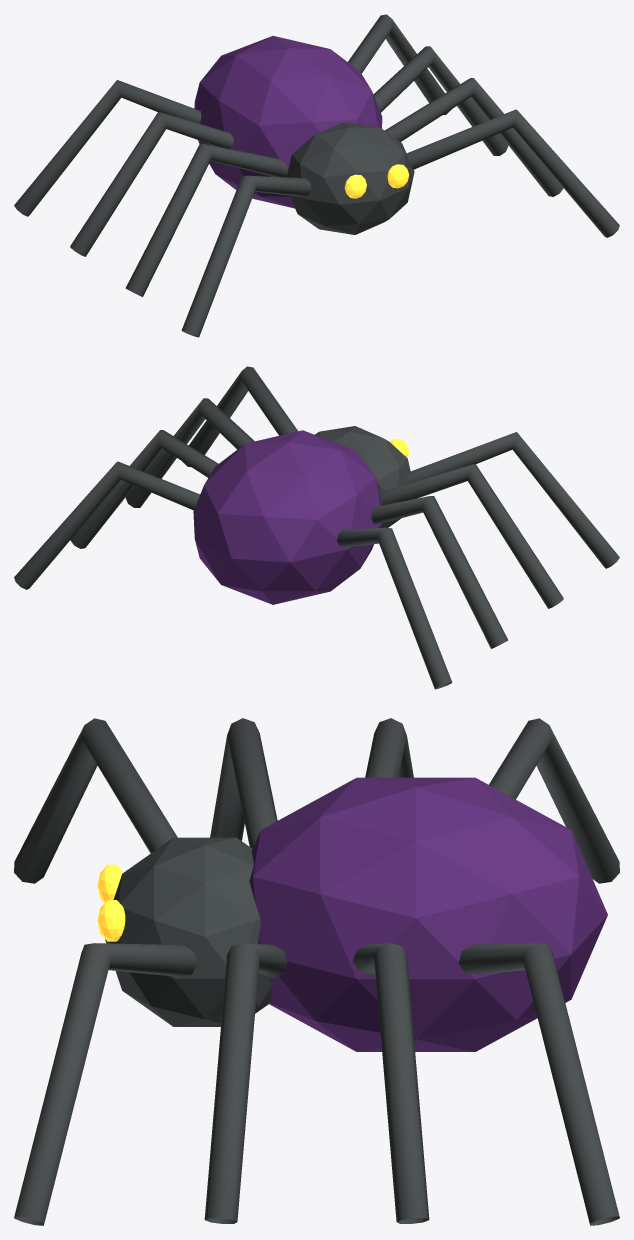
Rendered from spider.glb.
3 renders of one model, top to bottom at view 1: azimuth 30°, elevation 25°; view 2: azimuth 150°, elevation 25°; view 3: azimuth 270°, elevation 25°, orthographic. The views are drawn at different scales.
Parts seen in each view (by area): view 1: spider_abdomen, spider_head, spider_leg.004, spider_leg.001, spider_leg, spider_leg.002, spider_leg.003, spider_leg.005, spider_leg.006, spider_leg.007; view 2: spider_abdomen, spider_leg, spider_leg.001, spider_leg.007, spider_leg.002, spider_leg.003, spider_leg.006, spider_head, spider_leg.004, spider_leg.005; view 3: spider_abdomen, spider_head, spider_leg.004, spider_leg.007, spider_leg.005, spider_leg.006, spider_leg, spider_leg.003, spider_leg.001, spider_leg.002, spider_eye.001, spider_eye.
Part boxes in pixels (x1=…): spider_abdomen: x1=194, y1=36, x2=382, y2=208; spider_head: x1=287, y1=122, x2=414, y2=234; spider_leg.004: x1=406, y1=109, x2=619, y2=237; spider_leg.001: x1=125, y1=144, x2=288, y2=296; spider_leg: x1=181, y1=175, x2=311, y2=337; spider_leg.002: x1=70, y1=112, x2=233, y2=256; spider_leg.003: x1=14, y1=80, x2=201, y2=216; spider_leg.005: x1=385, y1=78, x2=563, y2=196; spider_leg.006: x1=373, y1=46, x2=508, y2=155; spider_leg.007: x1=348, y1=14, x2=451, y2=114; spider_abdomen: x1=193, y1=430, x2=382, y2=604; spider_leg: x1=405, y1=432, x2=619, y2=568; spider_leg.001: x1=380, y1=464, x2=563, y2=608; spider_leg.007: x1=14, y1=461, x2=199, y2=589; spider_leg.002: x1=371, y1=496, x2=508, y2=648; spider_leg.003: x1=337, y1=527, x2=452, y2=689; spider_leg.006: x1=70, y1=430, x2=218, y2=548; spider_head: x1=315, y1=426, x2=410, y2=527; spider_leg.004: x1=182, y1=366, x2=297, y2=466; spider_leg.005: x1=125, y1=398, x2=254, y2=507; spider_abdomen: x1=249, y1=777, x2=607, y2=1051; spider_head: x1=105, y1=837, x2=271, y2=1026; spider_leg.004: x1=14, y1=943, x2=197, y2=1225; spider_leg.007: x1=458, y1=943, x2=619, y2=1225; spider_leg.005: x1=204, y1=943, x2=287, y2=1223; spider_leg.006: x1=352, y1=943, x2=429, y2=1223; spider_leg: x1=14, y1=718, x2=177, y2=883; spider_leg.003: x1=489, y1=718, x2=619, y2=883; spider_leg.001: x1=210, y1=718, x2=277, y2=848; spider_leg.002: x1=365, y1=718, x2=413, y2=777; spider_eye.001: x1=97, y1=900, x2=125, y2=941; spider_eye: x1=97, y1=864, x2=123, y2=902.
Size of the model in its own units: 1.34 by 0.4607 by 0.9472.
